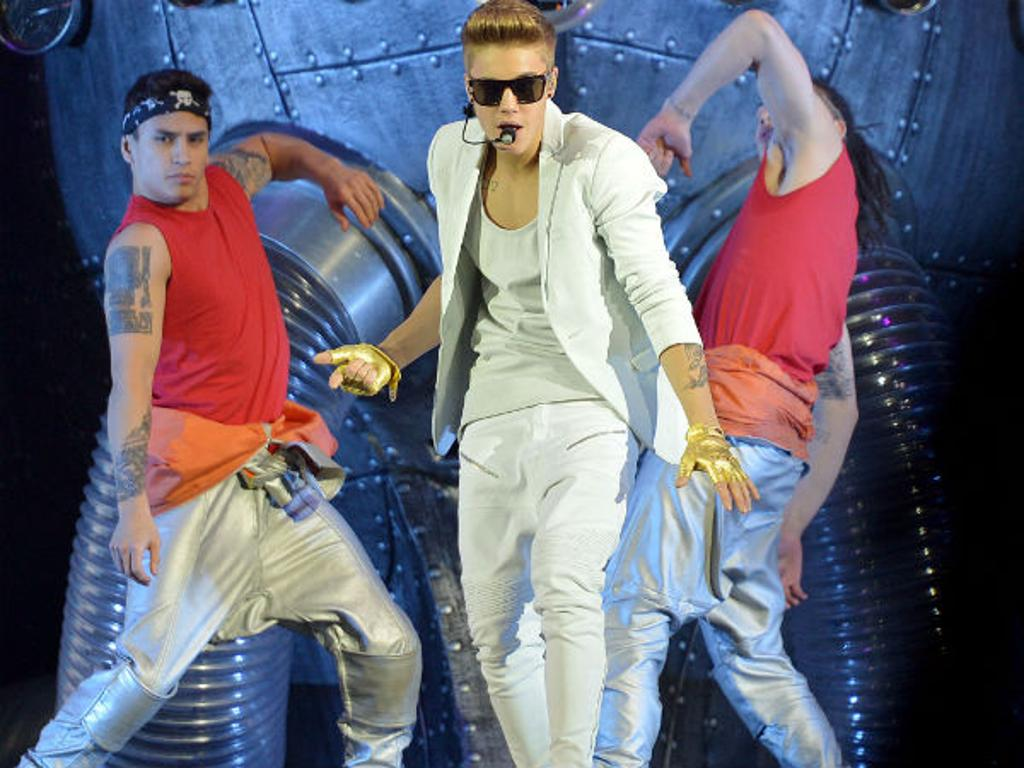face: (466, 46, 552, 166), (142, 104, 206, 206)
